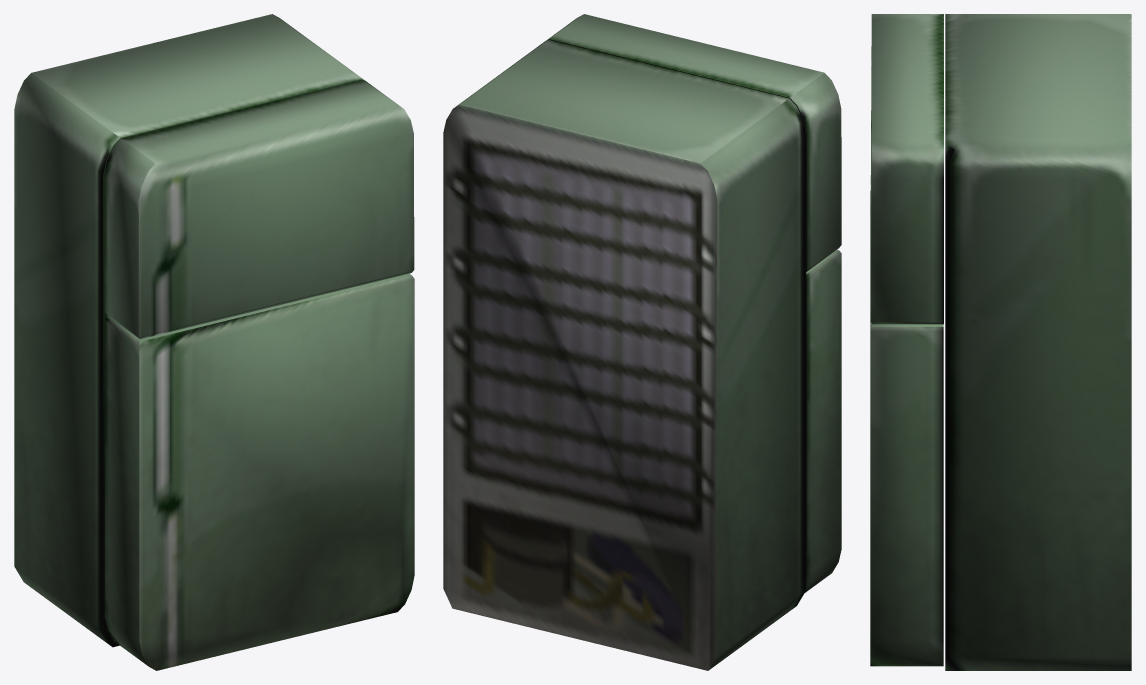
File: W_Fridge1g.fbx
The picture shows the model from 3 angles, left to right: view 1: azimuth 30°, elevation 25°; view 2: azimuth 150°, elevation 25°; view 3: azimuth 270°, elevation 25°; orthographic projection. The views are drawn at different scales.
Parts seen in each view (by area): view 1: W_Fridge1g; view 2: W_Fridge1g; view 3: W_Fridge1g.
Boxes of the visible parts, bbox=[...] form: W_Fridge1g: bbox=[14, 14, 414, 670]; W_Fridge1g: bbox=[443, 14, 841, 670]; W_Fridge1g: bbox=[870, 14, 1131, 670].
Bounding box in the file's own units: 0.5986 × 1.05 × 0.4706.
